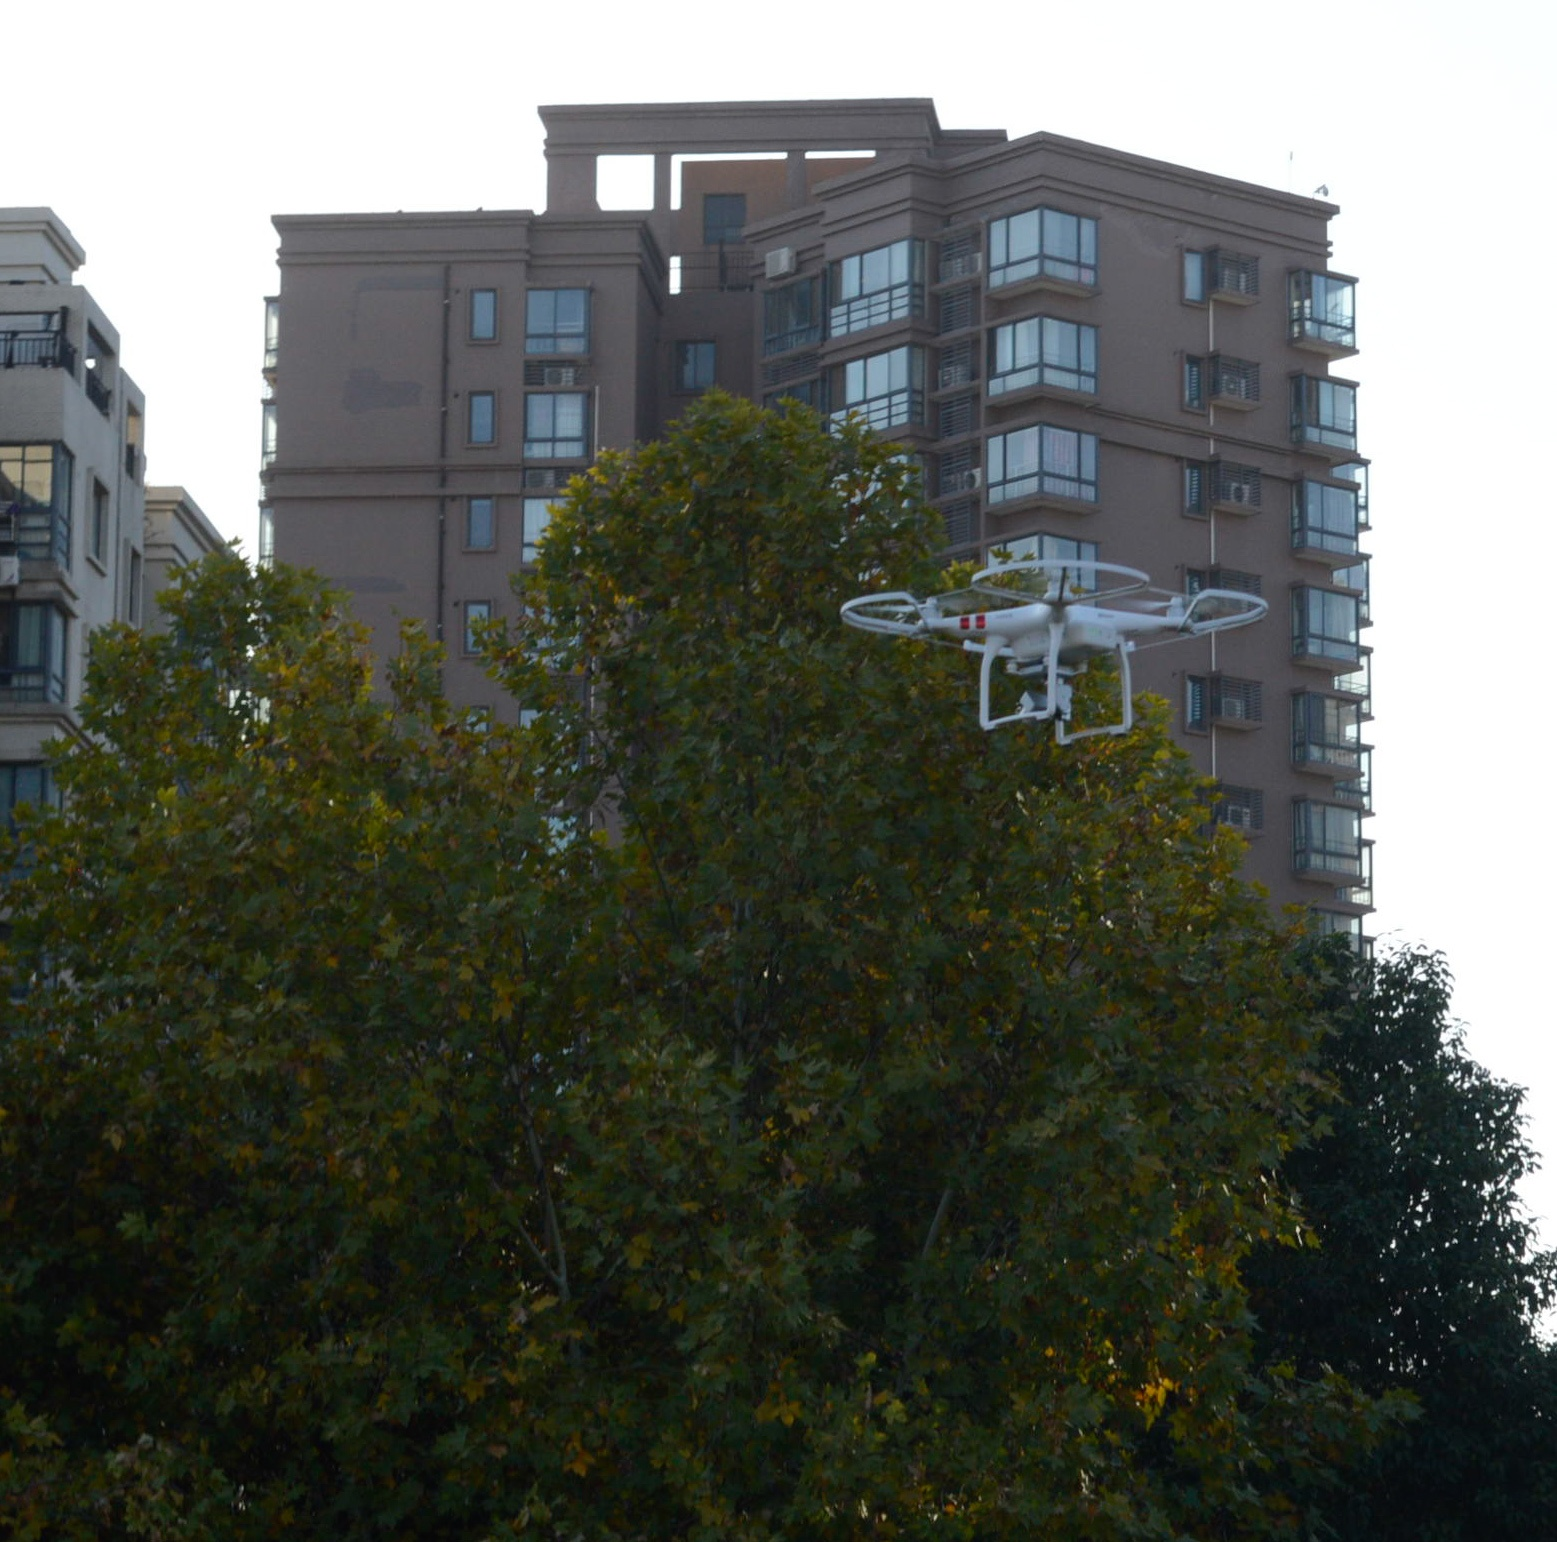DJI: (830, 554, 1270, 741)
